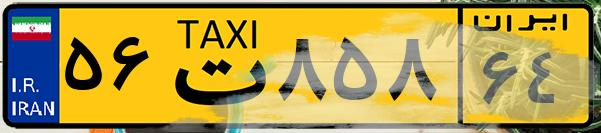4: (525, 38, 570, 115)
5: (330, 28, 385, 110), (57, 26, 110, 100)
6: (475, 38, 525, 113), (110, 28, 158, 98)
8: (270, 28, 330, 110), (385, 28, 445, 110)
ت: (158, 12, 270, 120)
